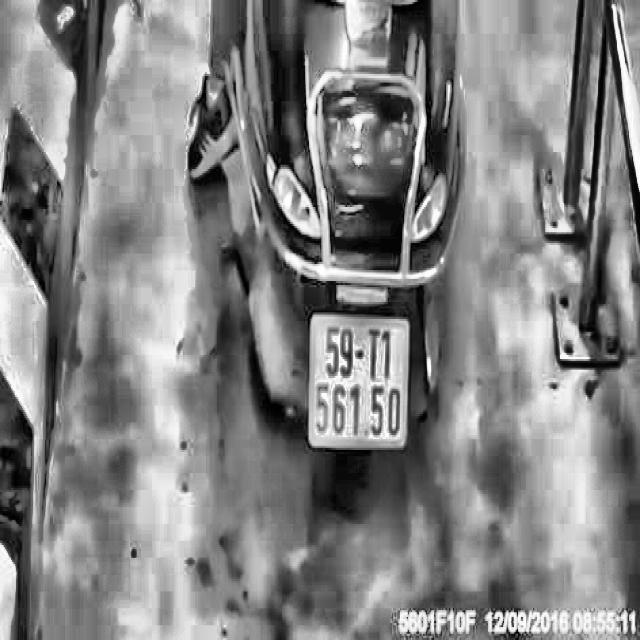plate: (304, 304, 412, 456)
